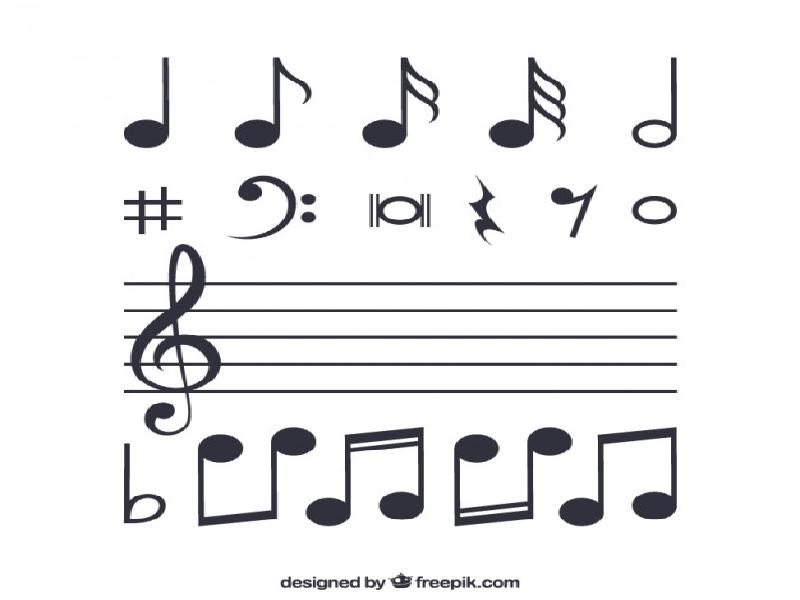B: (626, 56, 682, 149)
Bem: (118, 438, 171, 528)
C: (230, 56, 314, 146), (254, 424, 316, 523), (630, 418, 683, 522), (561, 426, 606, 530), (197, 436, 244, 534)
CF: (225, 166, 321, 241)
CS: (133, 243, 223, 436)
N: (124, 56, 186, 152)
R: (631, 191, 680, 227)
SC: (361, 58, 443, 148), (508, 414, 570, 520), (452, 421, 504, 534), (309, 427, 364, 527), (377, 425, 428, 521)
SN: (461, 176, 508, 252)
SOS: (123, 187, 184, 234)
